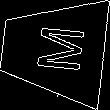M_W: (24, 24, 83, 76)
